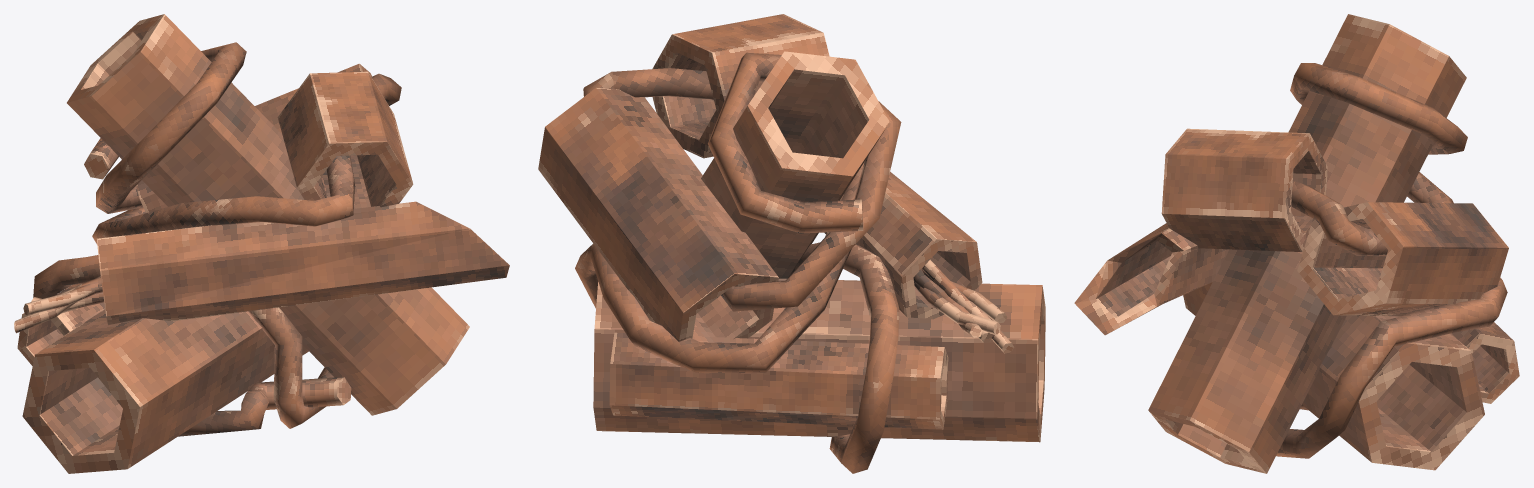
Rendered from CopperScrap.glb.
3 views of the same model, side by side, from view 1: azimuth 30°, elevation 25°; view 2: azimuth 150°, elevation 25°; view 3: azimuth 270°, elevation 25° (orthographic). The views are drawn at different scales.
Parts seen in each view (by area): view 1: Cylinder, Cylinder.002, Cylinder.001, BézierCurve, Cylinder.004, Cylinder.003, Cylinder.005, BézierCurve.003, BézierCurve.005; view 2: BézierCurve, Cylinder.005, Cylinder.001, Cylinder.003, Cylinder, Cylinder.004, Cylinder.002, BézierCurve.005, BézierCurve.002, BézierCurve.003, BézierCurve.004; view 3: Cylinder, Cylinder.005, BézierCurve, Cylinder.004, Cylinder.001, Cylinder.002, Cylinder.003.
Part boxes in pixels (x1,y1,x2,y2): Cylinder: [67, 14, 469, 415]; Cylinder.002: [97, 201, 509, 325]; Cylinder.001: [22, 309, 308, 473]; BézierCurve: [33, 42, 401, 436]; Cylinder.004: [277, 71, 413, 208]; Cylinder.003: [17, 284, 104, 365]; Cylinder.005: [136, 63, 371, 212]; BézierCurve.003: [31, 283, 102, 313]; BézierCurve.005: [14, 277, 101, 333]; BézierCurve: [575, 52, 901, 473]; Cylinder.005: [538, 88, 778, 342]; Cylinder.001: [593, 278, 1045, 442]; Cylinder.003: [609, 332, 948, 429]; Cylinder: [701, 51, 889, 278]; Cylinder.004: [652, 14, 829, 158]; Cylinder.002: [824, 172, 982, 319]; BézierCurve.005: [922, 259, 1014, 353]; BézierCurve.002: [913, 280, 1000, 335]; BézierCurve.003: [922, 269, 1007, 323]; BézierCurve.004: [913, 269, 992, 342]; Cylinder: [1148, 14, 1466, 473]; Cylinder.005: [1297, 202, 1508, 316]; BézierCurve: [1276, 63, 1507, 458]; Cylinder.004: [1161, 128, 1327, 251]; Cylinder.001: [1183, 282, 1484, 470]; Cylinder.002: [1074, 223, 1228, 335]; Cylinder.003: [1450, 322, 1519, 403].
Size of the model in its own units: 0.232 by 0.2102 by 0.2134.
1 material, 1 textured.
